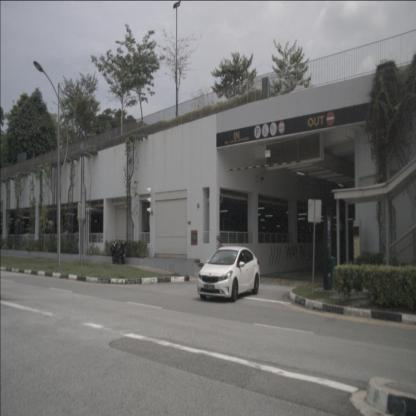human-pedestrian-adult: (218, 238, 223, 266)
vehicle-car: (197, 246, 260, 302)
vehicle-motorcycle: (109, 240, 127, 264)
